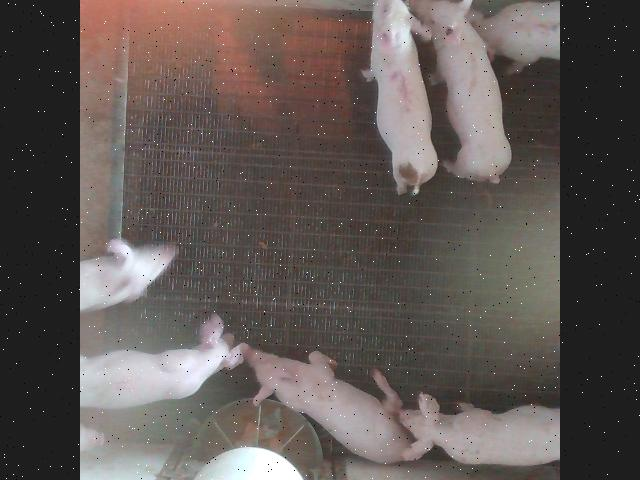pig-5: (363, 0, 438, 194)
